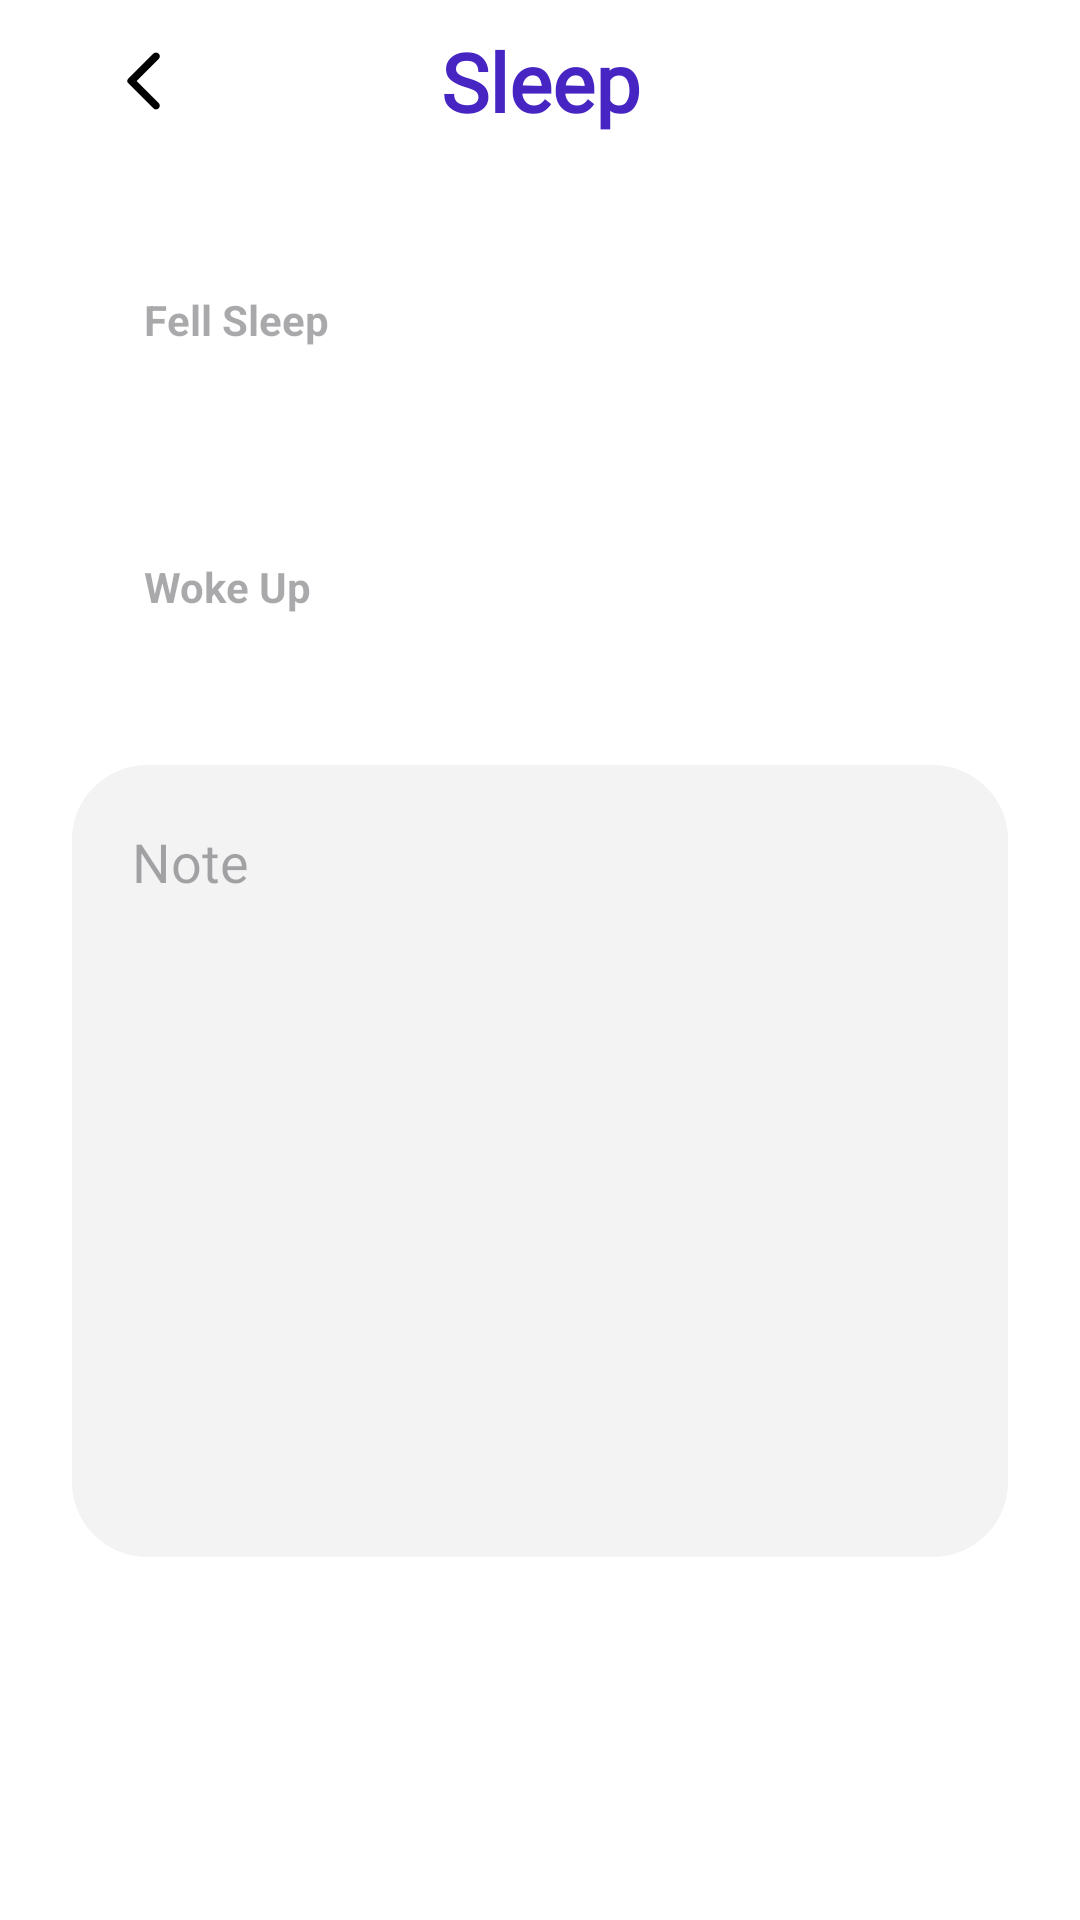

Where icons sit on this 1080 x 1920 app screen, as (x1, y1, x2, y2):
back: (127, 52, 160, 110)
